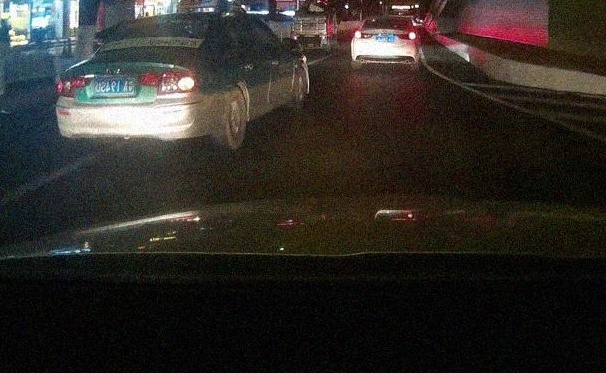L_light: (56, 74, 96, 98), (355, 31, 372, 39)
R_light: (138, 69, 197, 95), (396, 32, 416, 40)
T_light: (122, 47, 144, 52), (381, 18, 390, 20)
night-no: (351, 17, 417, 72)
night-right: (55, 12, 224, 151)
